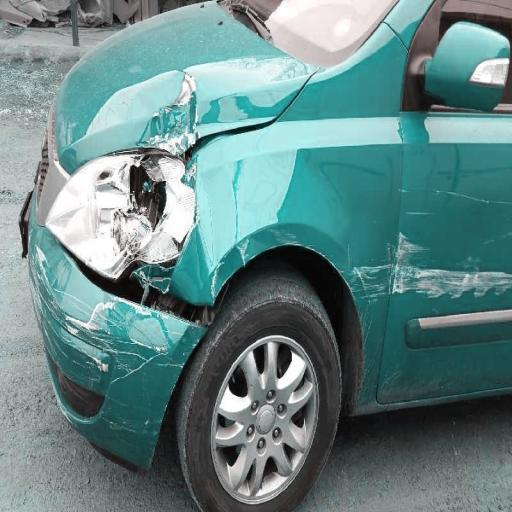broken: (67, 85, 248, 360)
scratch: (341, 194, 512, 338)
